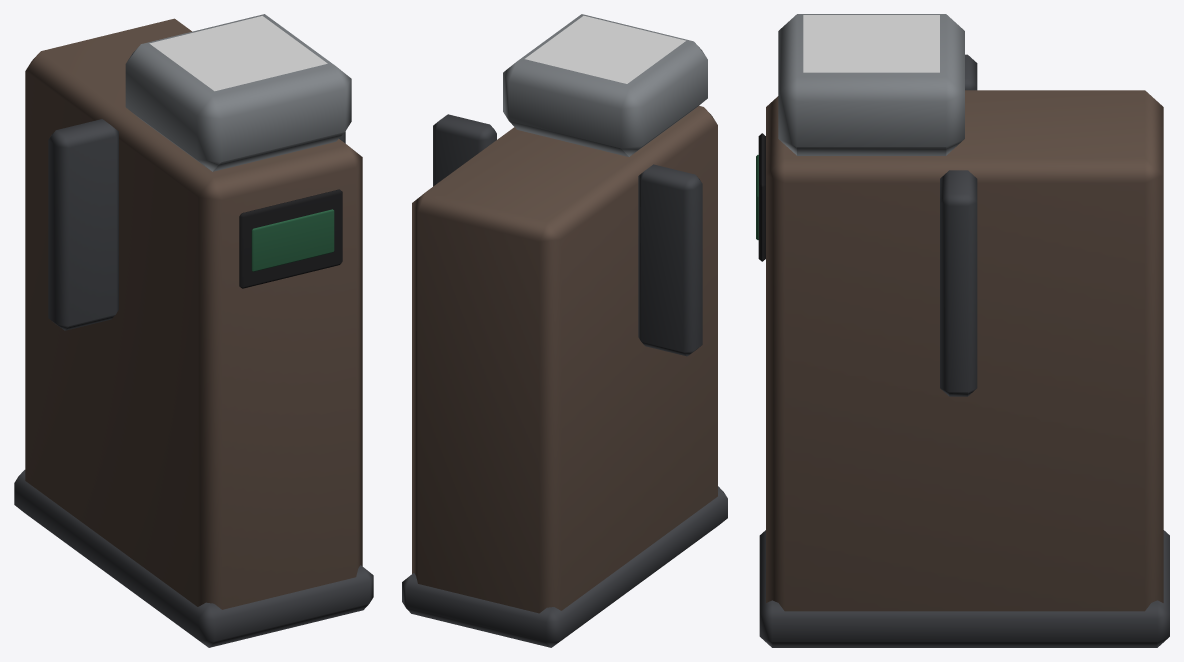
The model's file is TicketGateKM.fbx.
The picture shows the model from 3 angles, left to right: view 1: azimuth 30°, elevation 25°; view 2: azimuth 150°, elevation 25°; view 3: azimuth 270°, elevation 25°; orthographic projection. The views are drawn at different scales.
Visible parts, largest first — view 1: TicketGateKM; view 2: TicketGateKM; view 3: TicketGateKM.
Boxes of the visible parts, left/top/right/bottom form: TicketGateKM: left=14, top=14, right=373, bottom=647; TicketGateKM: left=402, top=14, right=727, bottom=647; TicketGateKM: left=756, top=14, right=1169, bottom=647.
Bounding box in the file's own units: 0.56 × 1 × 0.666.
